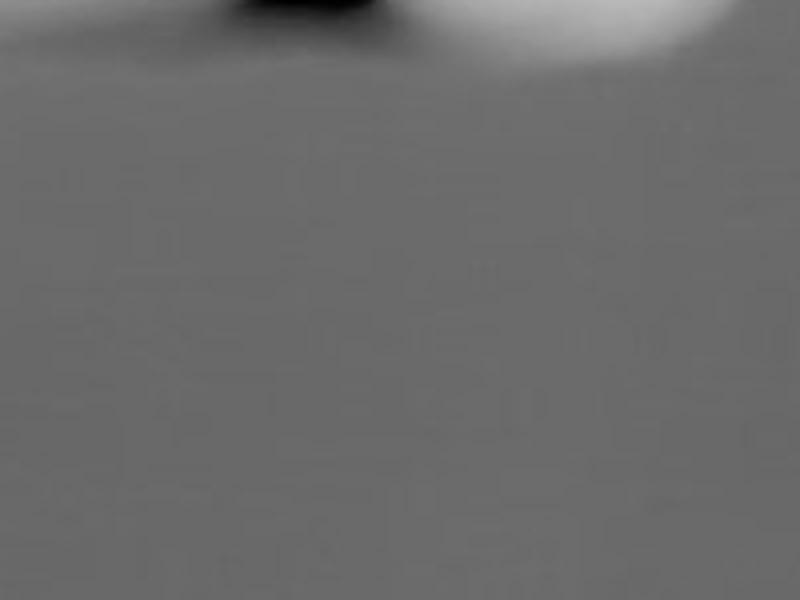defect: (231, 1, 385, 23)
